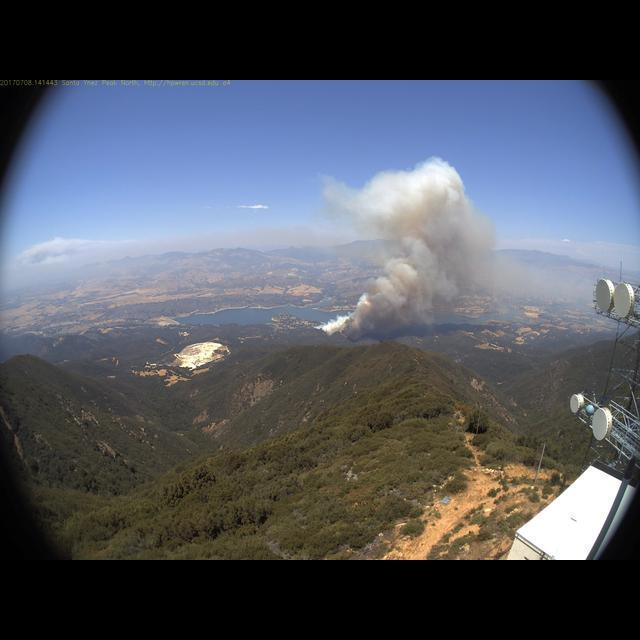Smoke: (309, 152, 521, 338)
